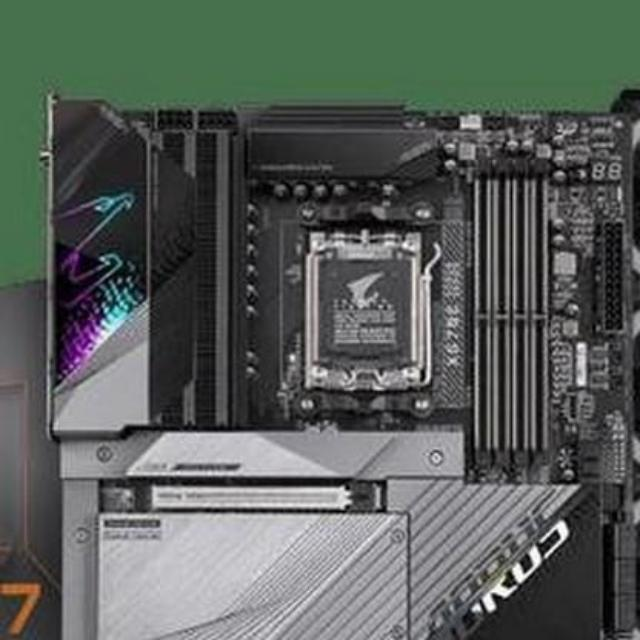Mainboard: (40, 85, 640, 640)
